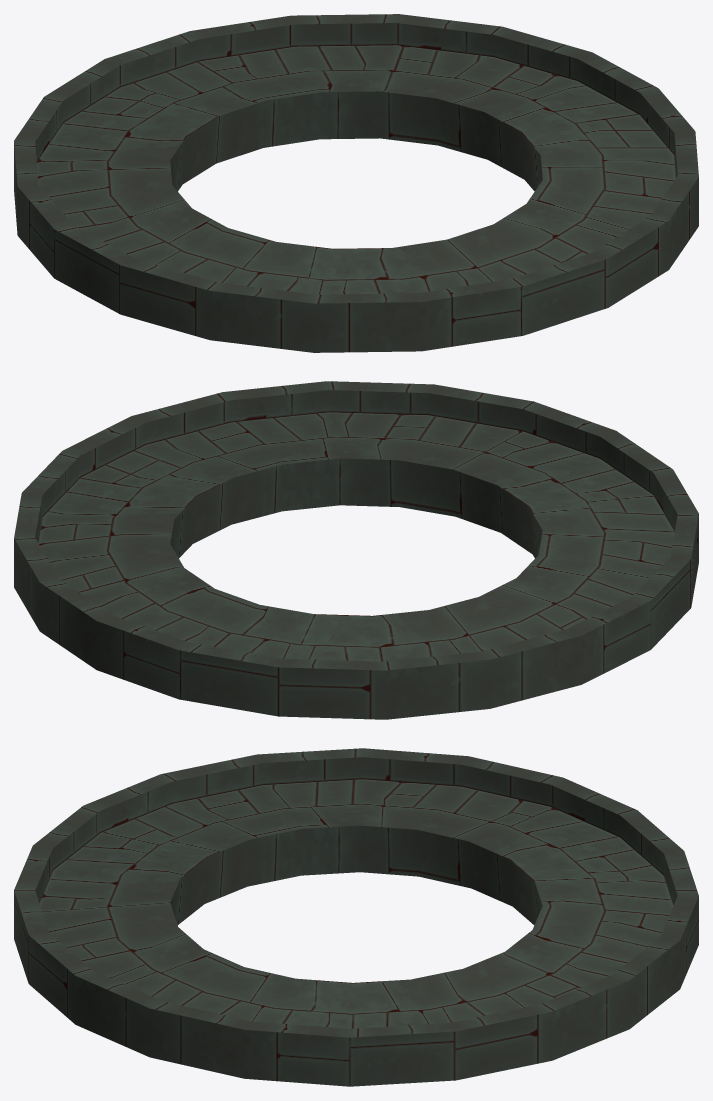
Rendered from SM_SpawnRing.fbx.
The picture shows the model from 3 angles, top to bottom: view 1: azimuth 30°, elevation 25°; view 2: azimuth 150°, elevation 25°; view 3: azimuth 270°, elevation 25°; orthographic projection.
Visible parts, largest first — view 1: SM_SpawnRing; view 2: SM_SpawnRing; view 3: SM_SpawnRing.
Part boxes in pixels (box(x1,y1,x2,y2)): SM_SpawnRing: box(14, 14, 698, 352); SM_SpawnRing: box(14, 381, 698, 719); SM_SpawnRing: box(14, 748, 698, 1086).
Bounding box in the file's own units: 1534 × 147 × 1534.
Materials: 1 (1 with a texture image).
